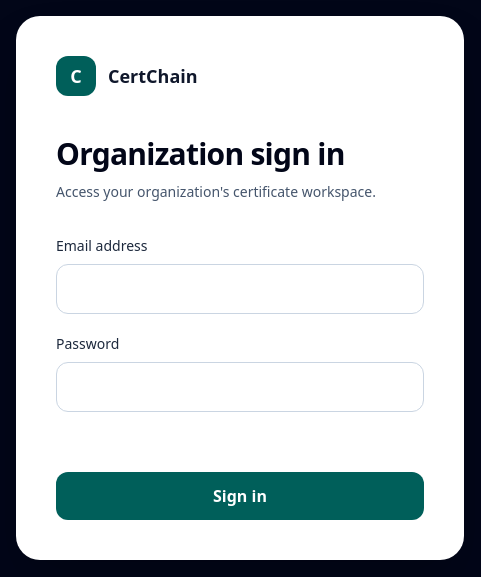
Test: organization login › distinguishes invalid credentials from a server failure
In the field labelled "Email address": [240, 289] box [56, 264, 424, 314], type "admin@example.test"
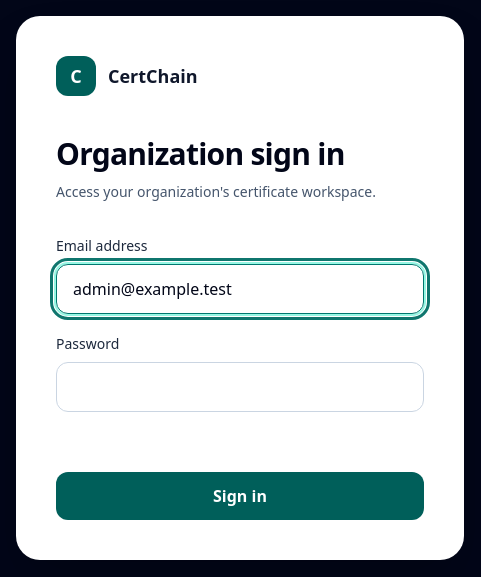
In the password field labelled "Password": [240, 387] box [56, 362, 424, 412], type "wrong-password"
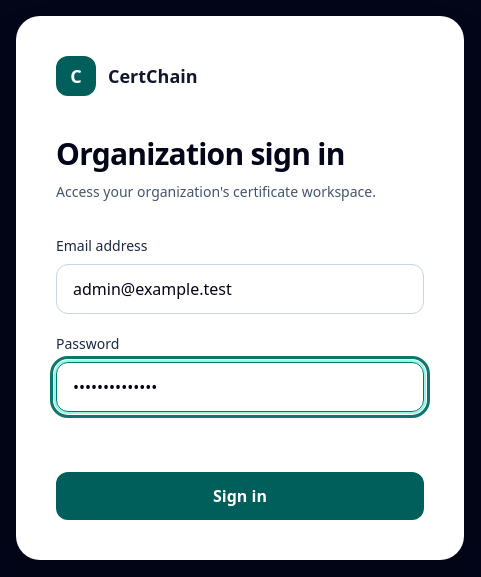
Click the button "Sign in": [240, 496] box [56, 472, 424, 520]
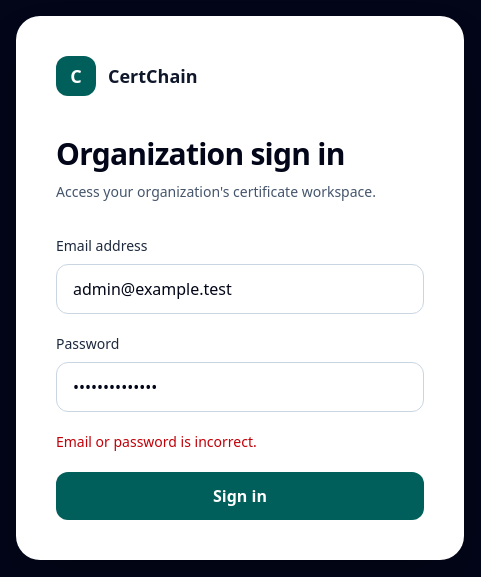
expect the message reads "Email or password is incorrect.": met, box [56, 432, 257, 451]
Click the button "Sign in": [240, 496] box [56, 472, 424, 520]
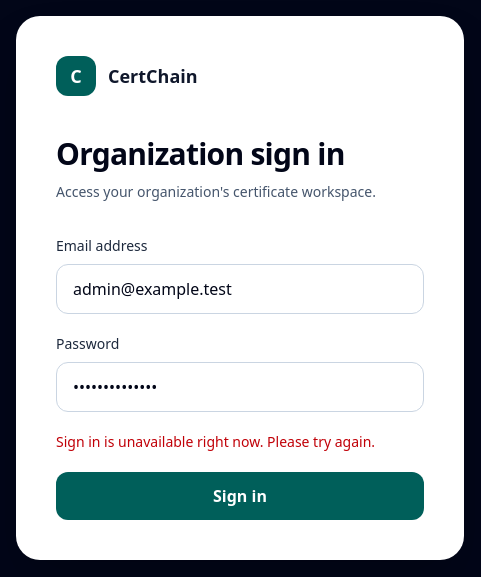
expect the message reads "Sign in is unavailable right now. Please try again.": met, box [56, 432, 375, 451]
